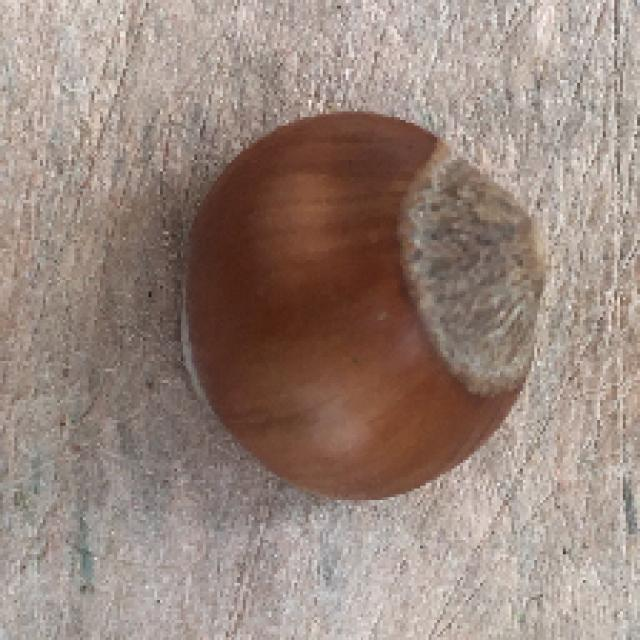DamagedHazelnut: (178, 110, 553, 505)
